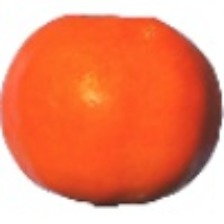tangerine: (34, 42, 216, 196)
